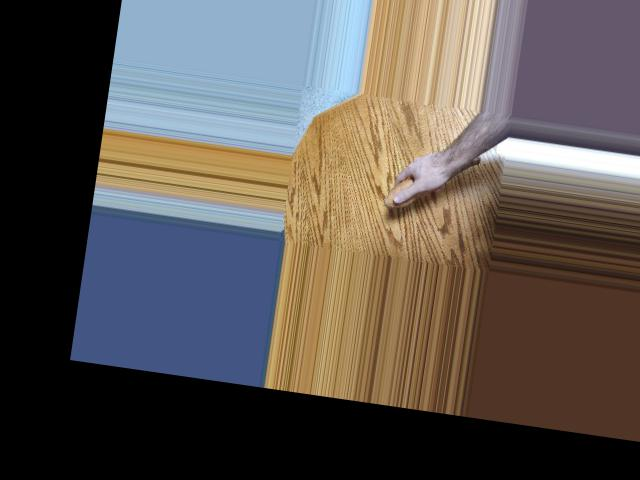sweet_potato: (382, 137, 486, 221)
